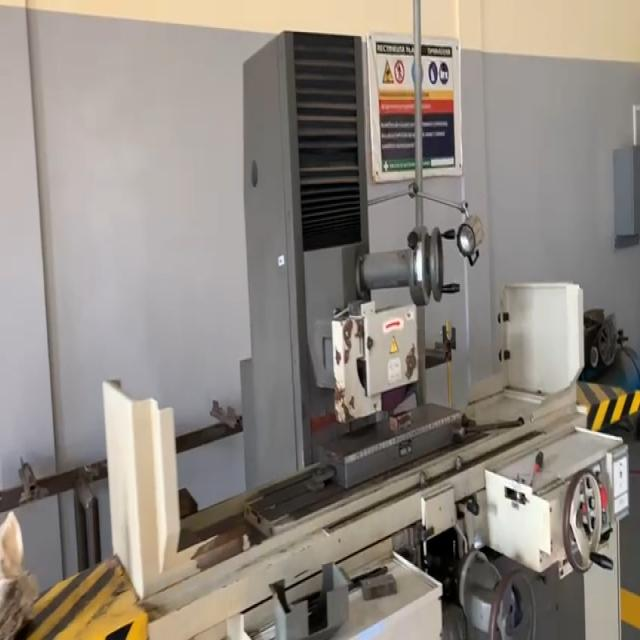fraiseuse: (102, 31, 630, 640)
